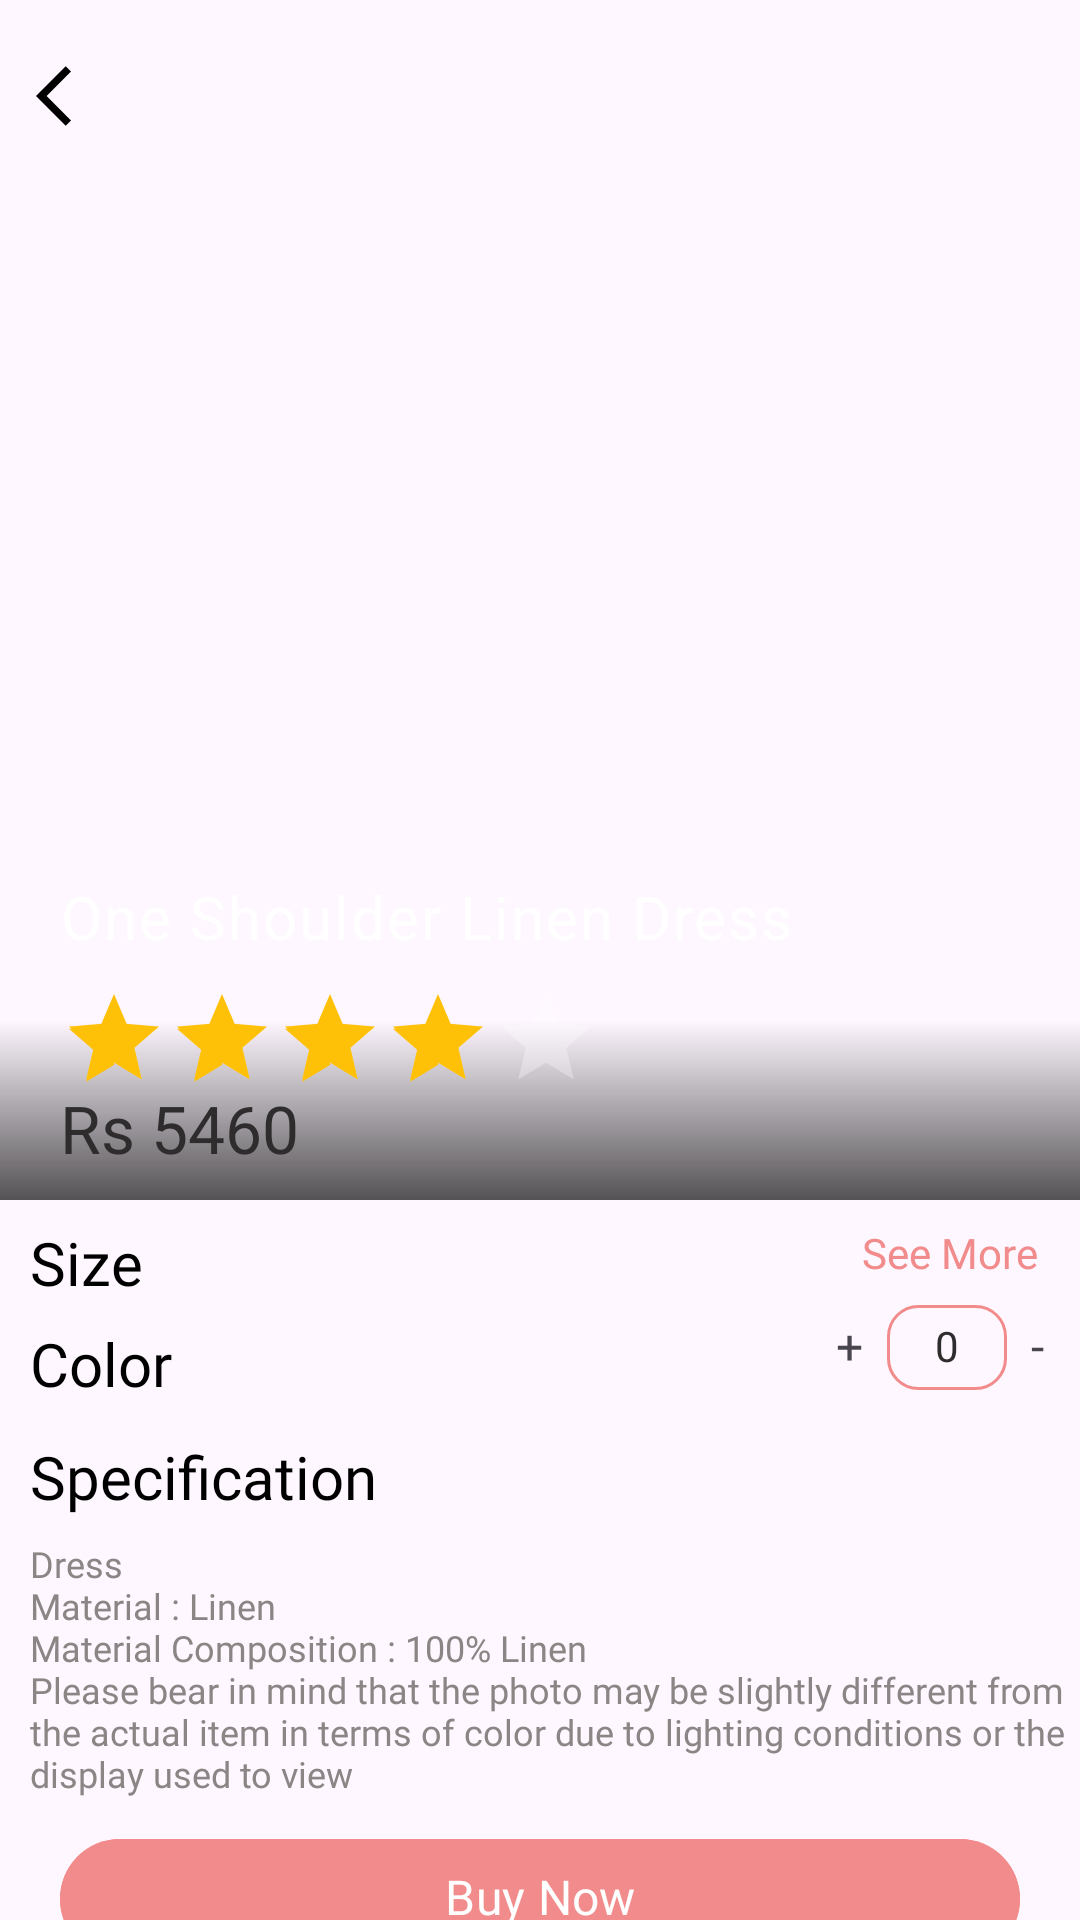

Icon bounding boxes for this 1080px x 1920px phone screenshot, format (x1, y1, x2, y2):
arrow back: (36, 66, 71, 126)
